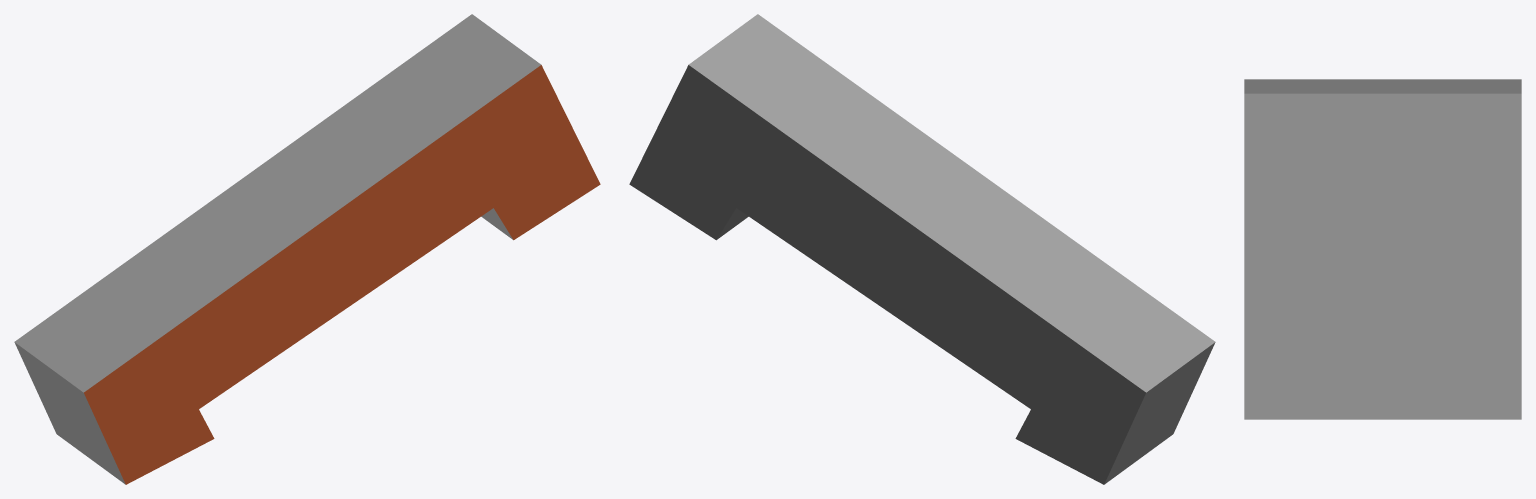
The model's file is construction_5192_assumed_A_Casa_h6m.obj.
3 views of the same model, side by side, from view 1: azimuth 30°, elevation 25°; view 2: azimuth 150°, elevation 25°; view 3: azimuth 270°, elevation 25° (orthographic). The views are drawn at different scales.
Visible parts, largest first — view 1: construction_5192_assumed_A_Casa; view 2: construction_5192_assumed_A_Casa; view 3: construction_5192_assumed_A_Casa.
Boxes of the visible parts, box(x1,y1,x2,y2) form: construction_5192_assumed_A_Casa: box(14, 14, 600, 484); construction_5192_assumed_A_Casa: box(629, 14, 1215, 484); construction_5192_assumed_A_Casa: box(1244, 79, 1521, 419).
Bounding box in the file's own units: 25.81 × 15.21 × 6.
